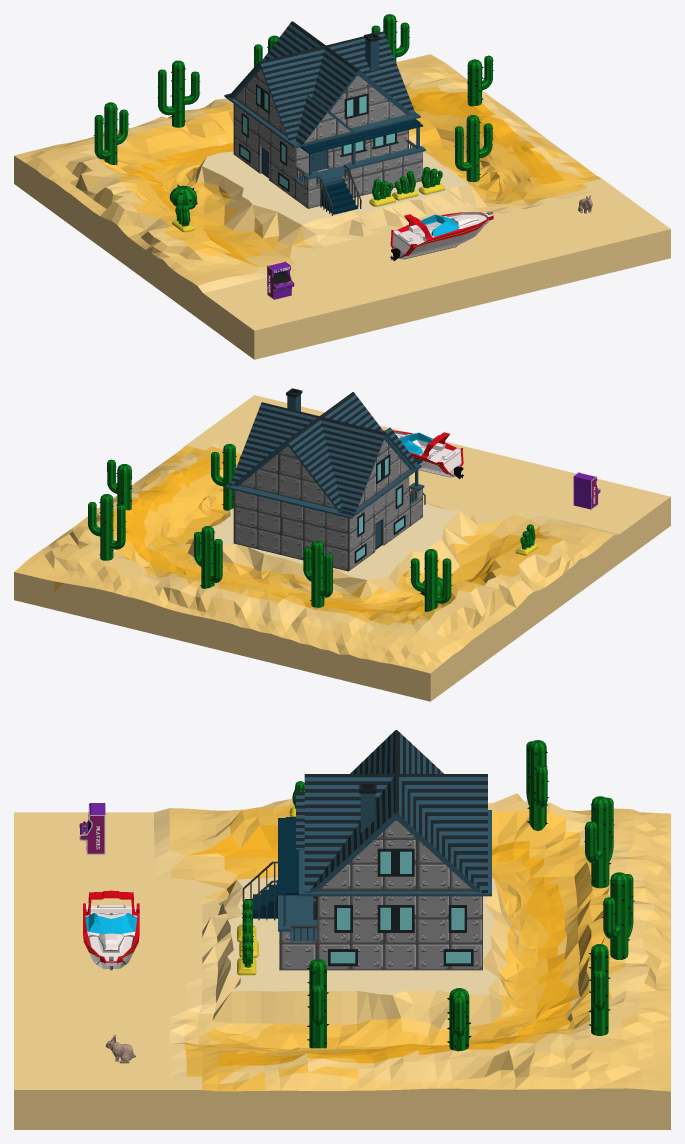
3 renders of one model, top to bottom at view 1: azimuth 30°, elevation 25°; view 2: azimuth 150°, elevation 25°; view 3: azimuth 270°, elevation 25°, orthographic. The views are drawn at different scales.
Parts seen in each view (by area): view 1: Cube.001, Cube.078, VEHICLES_BOAT, Cylinder.037, Cylinder.044, Cylinder.045, Cylinder.038, Cylinder.042, OBJRANDOM_ARCADE, Cylinder.039, Cylinder.041, Sphere.023 (+1 smaller); view 2: Cube.001, Cube.078, VEHICLES_BOAT, Cylinder.042, Cylinder.045, Cylinder.044, Cylinder.043, Cylinder.037, Cylinder.038, OBJRANDOM_ARCADE; view 3: Cube.001, Cube.078, VEHICLES_BOAT, Cylinder.043, Cylinder.044, Cylinder.045, Cylinder.042, Cylinder.037, Cylinder.038, OBJRANDOM_ARCADE, Cylinder.041.
Part boxes in pixels (left/top/right/bottom): Cube.001: left=14, top=54, right=670, bottom=359; Cube.078: left=224, top=21, right=425, bottom=215; VEHICLES_BOAT: left=390, top=211, right=493, bottom=260; Cylinder.037: left=454, top=115, right=493, bottom=182; Cylinder.044: left=157, top=60, right=200, bottom=127; Cylinder.045: left=93, top=102, right=129, bottom=164; Cylinder.038: left=467, top=55, right=493, bottom=106; Cylinder.042: left=371, top=14, right=409, bottom=62; OBJRANDOM_ARCADE: left=267, top=261, right=294, bottom=299; Cylinder.039: left=369, top=179, right=395, bottom=206; Cylinder.041: left=418, top=167, right=445, bottom=194; Sphere.023: left=169, top=184, right=197, bottom=209; Cube.001: left=14, top=395, right=670, bottom=701; Cube.078: left=225, top=388, right=425, bottom=571; VEHICLES_BOAT: left=383, top=430, right=463, bottom=479; Cylinder.042: left=88, top=494, right=126, bottom=560; Cylinder.045: left=410, top=549, right=452, bottom=611; Cylinder.044: left=303, top=540, right=333, bottom=607; Cylinder.043: left=193, top=526, right=222, bottom=588; Cylinder.037: left=211, top=444, right=240, bottom=510; Cylinder.038: left=107, top=459, right=131, bottom=510; OBJRANDOM_ARCADE: left=573, top=472, right=600, bottom=509; Cube.001: left=14, top=793, right=670, bottom=1129; Cube.078: left=242, top=730, right=491, bottom=970; VEHICLES_BOAT: left=83, top=890, right=139, bottom=970; Cylinder.043: left=602, top=872, right=634, bottom=959; Cylinder.044: left=584, top=796, right=614, bottom=888; Cylinder.045: left=526, top=740, right=549, bottom=830; Cylinder.042: left=588, top=944, right=610, bottom=1035; Cylinder.037: left=307, top=959, right=329, bottom=1048; Cylinder.038: left=447, top=988, right=471, bottom=1051; OBJRANDOM_ARCADE: left=79, top=803, right=105, bottom=854; Cylinder.041: left=237, top=932, right=256, bottom=975.
Bounding box in the file's own units: 4002 × 1605 × 4001.
38 materials, 4 textured.
